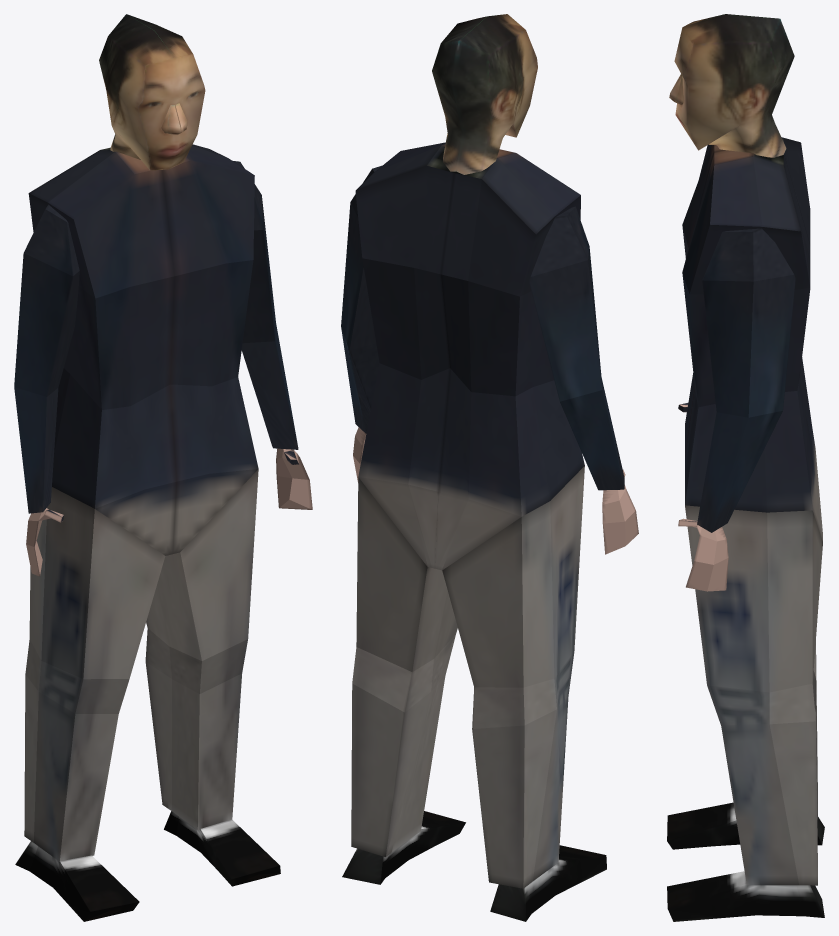
Rendered from Real_final_bae.fbx.
3 renders of one model, left to right at view 1: azimuth 30°, elevation 25°; view 2: azimuth 150°, elevation 25°; view 3: azimuth 270°, elevation 25°, orthographic.
Parts seen in each view (by area): view 1: Torso; view 2: Torso; view 3: Torso.
Part boxes in pixels (bbox=[...]): Torso: bbox=[14, 14, 312, 921]; Torso: bbox=[341, 14, 638, 921]; Torso: bbox=[667, 14, 824, 921].
Bounding box in the file's own units: 106 × 312 × 51.99.
